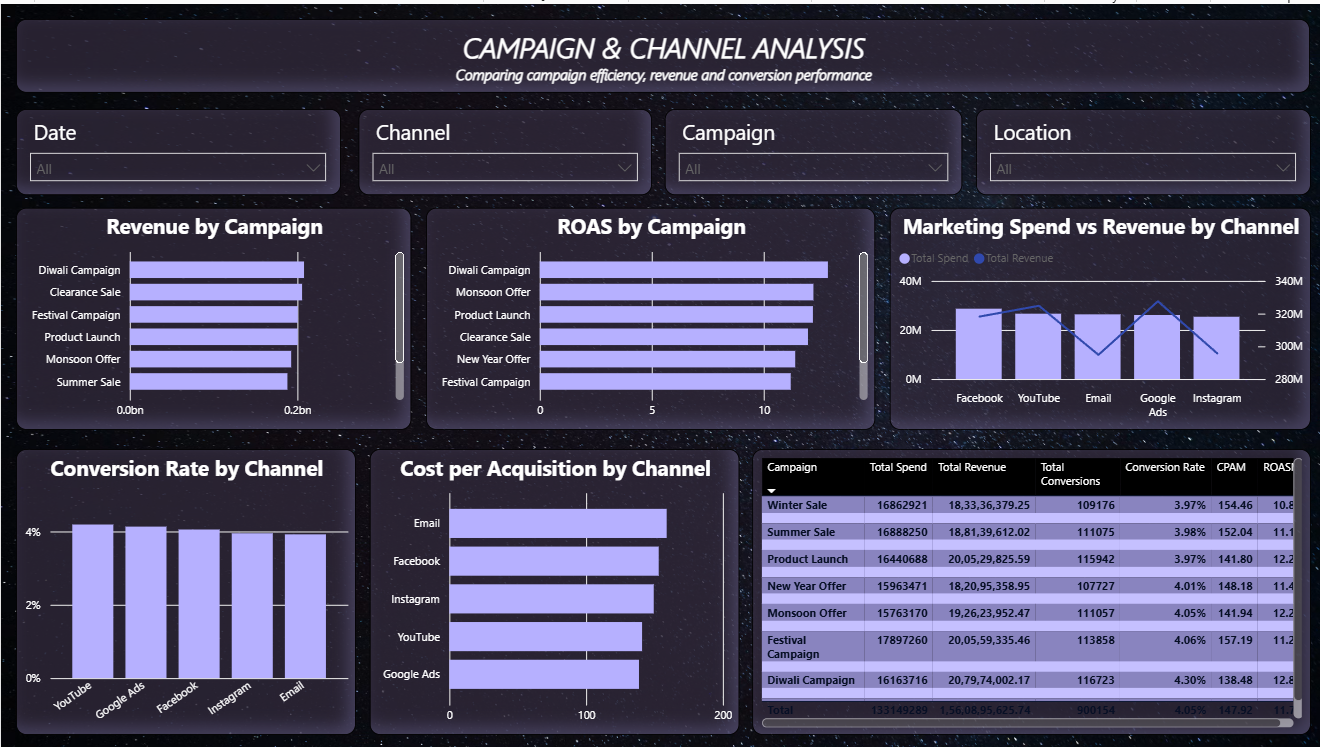

This screenshot's page, from the dashboard's own definition file:
{"tool":"powerbi","page":{"name":"Page 2","canvas":[1280,720],"ordinal":1},"visuals":[{"type":"textbox","box":[15,15,1248.8,71.1],"z":0},{"type":"slicer","fields":{"Values":["MarketingData.Date"]},"box":[15,101.2,313.2,83.4],"z":1000},{"type":"slicer","fields":{"Values":["MarketingData.Channel"]},"box":[344.7,101.2,283.1,83.4],"z":2000},{"type":"slicer","fields":{"Values":["MarketingData.Campaign"]},"box":[640.1,101.2,287.2,83.4],"z":3000},{"type":"slicer","fields":{"Values":["MarketingData.Location"]},"box":[941.1,101.2,322.8,83.4],"z":4000},{"type":"clusteredBarChart","title":"Revenue by Campaign","fields":{"Category":["MarketingData.Campaign"],"Y":["MarketingData.Total Revenue"]},"box":[15,197,381.6,214.7],"z":5000},{"type":"clusteredBarChart","title":"ROAS by Campaign","fields":{"Category":["MarketingData.Campaign"],"Y":["MarketingData.ROASM"]},"box":[410.3,197,433.6,214.7],"z":6000},{"type":"lineClusteredColumnComboChart","title":"Marketing Spend vs Revenue by Channel","fields":{"Category":["MarketingData.Channel"],"Y":["MarketingData.Total Spend"],"Y2":["MarketingData.Total Revenue"]},"box":[857.6,197,406.2,214.7],"z":7000},{"type":"clusteredColumnChart","fields":{"Category":["MarketingData.Channel"],"Y":["MarketingData.Conversion Rate"]},"box":[15,429.5,328.3,276.3],"z":8000},{"type":"clusteredBarChart","title":"Cost per Acquisition by Channel","fields":{"Category":["MarketingData.Channel"],"Y":["MarketingData.CPAM"]},"box":[355.6,429.5,357,276.3],"z":9000},{"type":"tableEx","fields":{"Values":["MarketingData.Campaign","MarketingData.Total Spend","MarketingData.Total Revenue","MarketingData.Total Conversions","MarketingData.Conversion Rate","MarketingData.CPAM","MarketingData.ROASM"]},"box":[724.9,429.5,538.9,276.3],"z":10000}]}

Visuals, with their boxes in screenshot pixels (x1, y1, x2, y2), scaled from the page's 1280x720 canvas onto the 1320x747 screenshot:
textbox: (15, 16, 1303, 89)
slicer - MarketingData.Date: (15, 105, 338, 192)
slicer - MarketingData.Channel: (355, 105, 647, 192)
slicer - MarketingData.Campaign: (660, 105, 956, 192)
slicer - MarketingData.Location: (971, 105, 1303, 192)
"Revenue by Campaign" clusteredBarChart: (15, 204, 409, 427)
"ROAS by Campaign" clusteredBarChart: (423, 204, 870, 427)
"Marketing Spend vs Revenue by Channel" lineClusteredColumnComboChart: (884, 204, 1303, 427)
clusteredColumnChart - MarketingData.Channel x MarketingData.Conversion Rate: (15, 446, 354, 732)
"Cost per Acquisition by Channel" clusteredBarChart: (367, 446, 735, 732)
tableEx - MarketingData.Campaign x MarketingData.Total Spend: (748, 446, 1303, 732)
